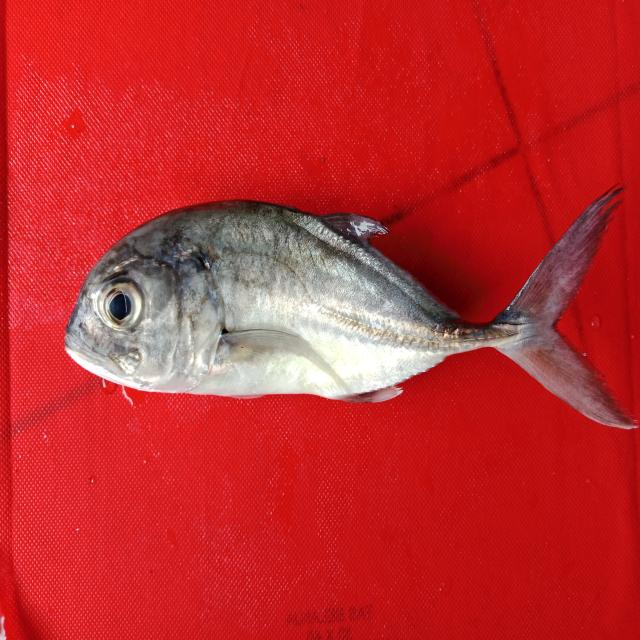ikan: (54, 172, 635, 448)
